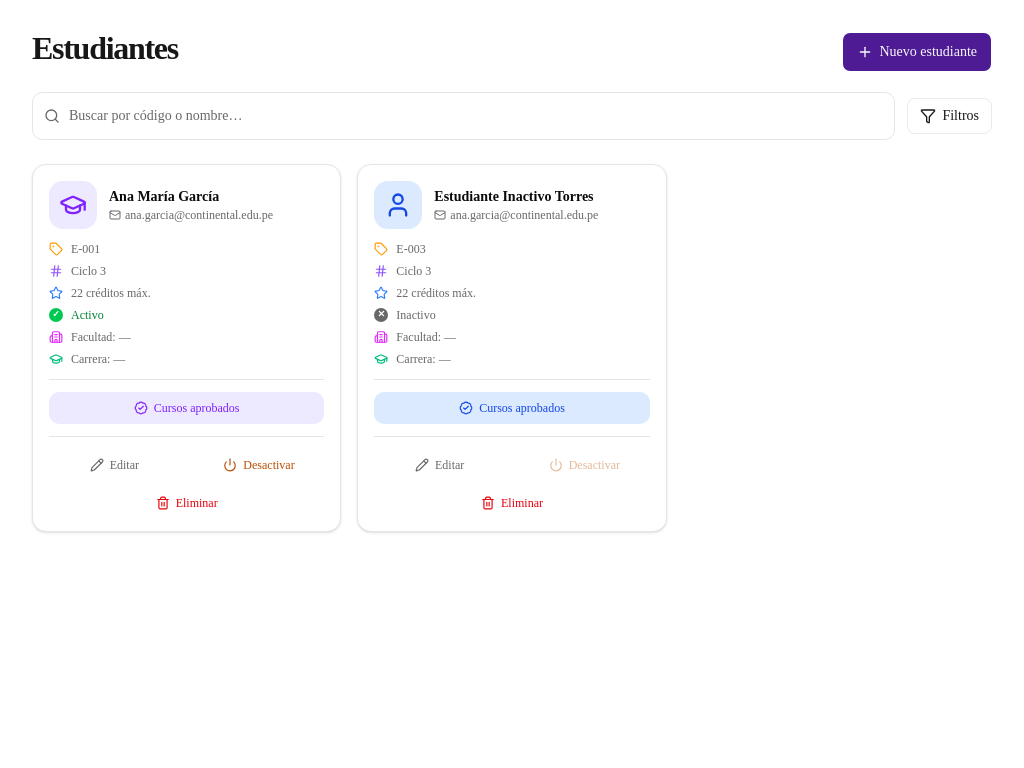
StudentsPage (admin) › filtra por estado inactivo
Expected: the text "Ana María García" is shown, [109,189,219,204]
Expected: the text "Estudiante Inactivo Torres" is shown, [434,187,598,207]
Click the button "Filtros": (950, 116) [907,98,992,134]
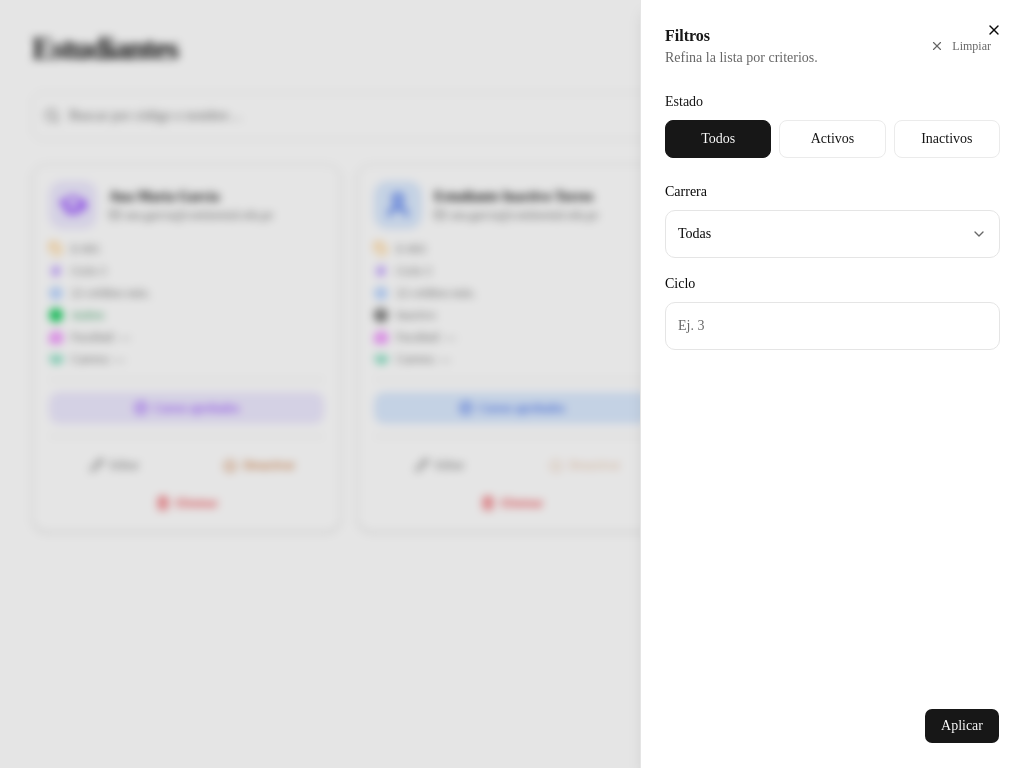
Click the button "Inactivos": (947, 139) [894,120,1000,158]
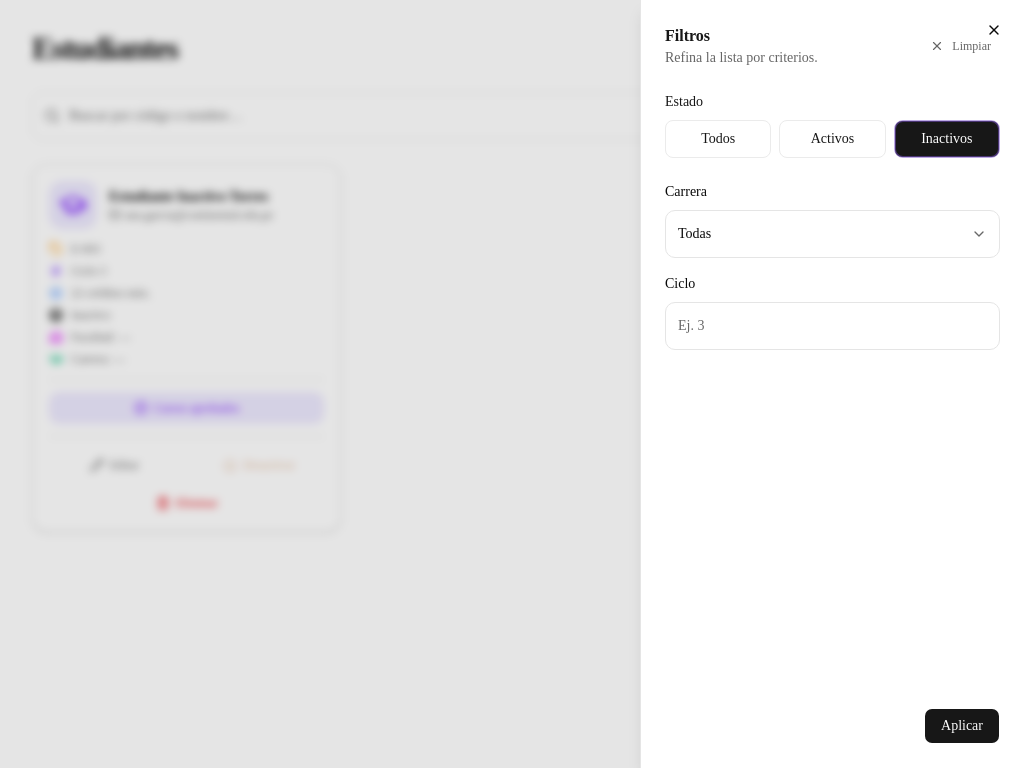
Expected: the text "Estudiante Inactivo Torres" is shown, [109,187,273,207]
Result: the text "Ana María García" is gone
